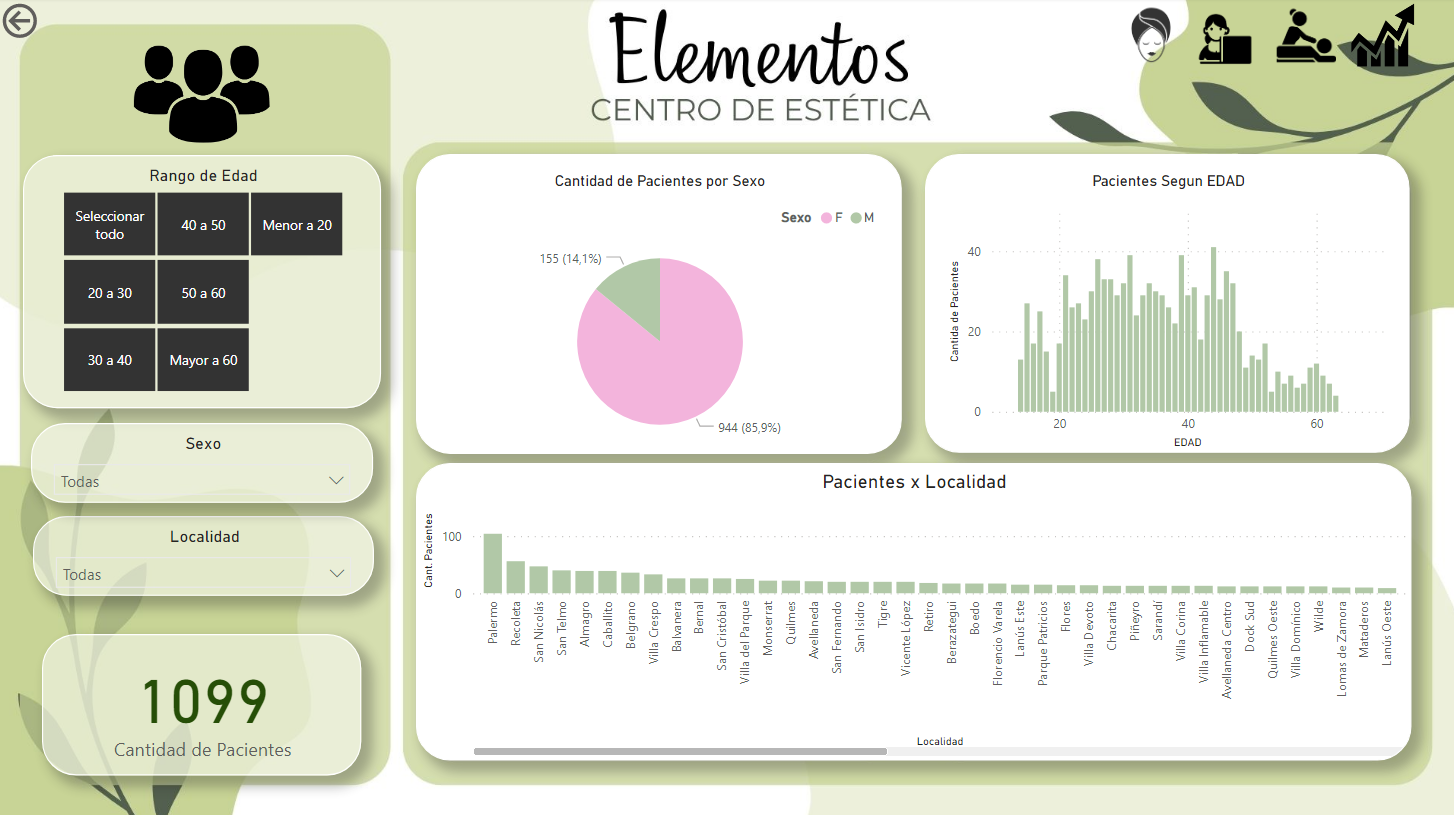

The page's visual inventory and layout, read from the dashboard file:
{"tool":"powerbi","page":{"name":"PACIENTES","canvas":[1280,720],"ordinal":1},"visuals":[{"type":"card","fields":{"Values":["Calculos.Cantidad de Pacientes"]},"box":[39.9,557.3,280.1,124.5],"z":0},{"type":"image","box":[92.4,37.2,173.8,95.4],"z":1000},{"type":"actionButton","box":[0,0,100,40],"z":2000},{"type":"pieChart","title":"Cantidad de Pacientes por Sexo","fields":{"Category":["pacientes.sexo_paciente"],"Y":["CountNonNull(pacientes.sexo_paciente)"]},"box":[367.4,136.6,426,262.6],"z":3000},{"type":"columnChart","title":"Pacientes Segun EDAD","fields":{"Category":["pacientes.edad"],"Y":["CountNonNull(pacientes.id_paciente)"]},"box":[813.9,136.8,425,262.4],"z":4000},{"type":"slicer","title":"Rango de Edad","fields":{"Values":["pacientes.rango_edad"]},"box":[23.1,137.6,314.5,222],"z":5000},{"type":"clusteredColumnChart","title":"Pacientes x Localidad","fields":{"Category":["pacientes.localidad_paciente"],"Y":["CountNonNull(pacientes.id_paciente)"]},"box":[367.3,407.5,872.5,261.4],"z":6000},{"type":"image","box":[937.4,2.1,149.2,60.7],"z":7000},{"type":"image","box":[1012.5,0,127.6,74.1],"z":8000},{"type":"image","box":[1117.4,2.1,61.7,61.7],"z":9000},{"type":"slicer","title":"Localidad","fields":{"Values":["pacientes.localidad_paciente"]},"box":[31.1,454.1,299.4,70.3],"z":10000},{"type":"slicer","title":"Sexo","fields":{"Values":["pacientes.sexo_paciente"]},"box":[30.1,372.7,300.4,70.3],"z":11000},{"type":"image","box":[1163.5,0,103.5,65.3],"z":11001}]}

Visuals, with their boxes in screenshot pixels (x1, y1, x2, y2), scaled from the page's 1280x720 canvas onto the 1454x815 screenshot:
card - Calculos.Cantidad de Pacientes: box=[45, 631, 364, 772]
image: box=[105, 42, 302, 150]
actionButton: box=[0, 0, 114, 45]
"Cantidad de Pacientes por Sexo" pieChart: box=[417, 155, 901, 452]
"Pacientes Segun EDAD" columnChart: box=[925, 155, 1407, 452]
"Rango de Edad" slicer: box=[26, 156, 383, 407]
"Pacientes x Localidad" clusteredColumnChart: box=[417, 461, 1408, 757]
image: box=[1065, 2, 1234, 71]
image: box=[1150, 0, 1295, 84]
image: box=[1269, 2, 1339, 72]
"Localidad" slicer: box=[35, 514, 375, 594]
"Sexo" slicer: box=[34, 422, 375, 501]
image: box=[1322, 0, 1439, 74]
